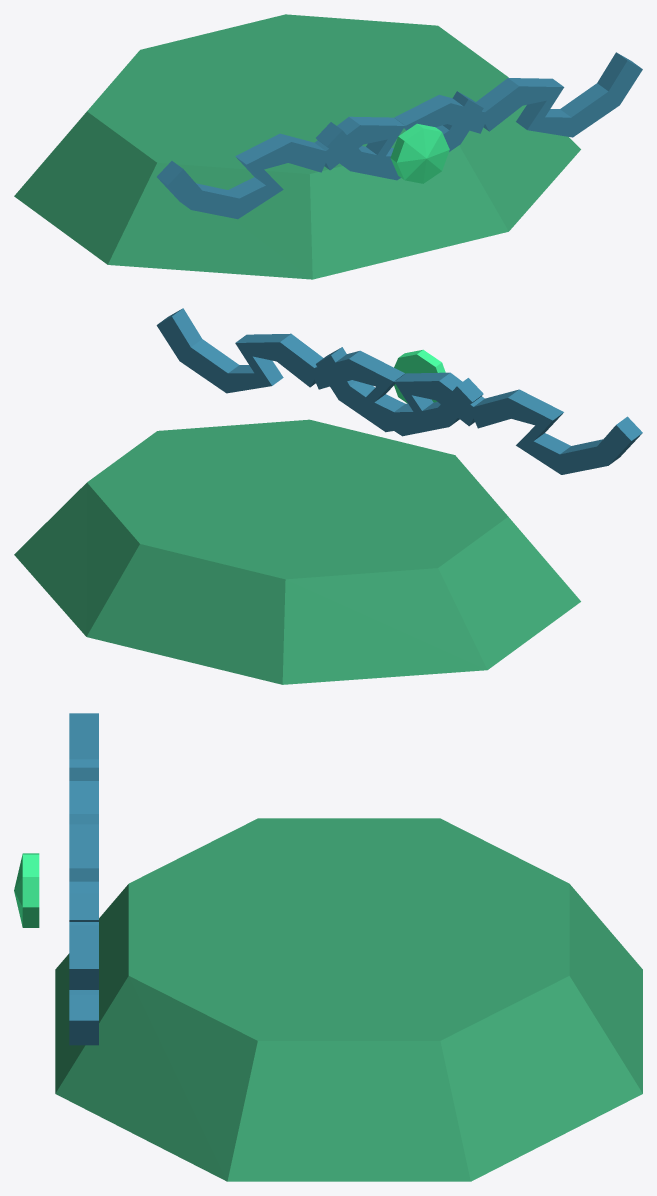
The model's file is floating_cloud_base.obj.
The picture shows the model from 3 angles, top to bottom: view 1: azimuth 30°, elevation 25°; view 2: azimuth 150°, elevation 25°; view 3: azimuth 270°, elevation 25°; orthographic projection. The views are drawn at different scales.
Visible parts, largest first — view 1: floating_cloud_plinth, base_cloud_-1_left, base_cloud_1_right, base_cloud_-1_right, base_cloud_1_right_edge, base_cloud_gem, base_cloud_1_left, base_cloud_-1_left_edge, base_cloud_1_left_edge, base_cloud_-1_right_edge; view 2: floating_cloud_plinth, base_cloud_-1_left, base_cloud_-1_right, base_cloud_1_right, base_cloud_1_left, base_cloud_1_right_edge, base_cloud_-1_left_edge, base_cloud_1_left_edge, base_cloud_-1_right_edge, base_cloud_gem; view 3: floating_cloud_plinth, base_cloud_1_right_edge, base_cloud_-1_left_edge, base_cloud_-1_right_edge, base_cloud_gem, base_cloud_1_left_edge.
Part boxes in pixels (x1=…): floating_cloud_plinth: x1=14, y1=14, x2=580, y2=279; base_cloud_-1_left: x1=168, y1=142, x2=329, y2=219; base_cloud_1_right: x1=481, y1=60, x2=642, y2=137; base_cloud_-1_right: x1=322, y1=99, x2=483, y2=173; base_cloud_1_right_edge: x1=476, y1=52, x2=641, y2=130; base_cloud_gem: x1=390, y1=123, x2=449, y2=183; base_cloud_1_left: x1=327, y1=103, x2=488, y2=180; base_cloud_-1_left_edge: x1=157, y1=133, x2=325, y2=209; base_cloud_1_left_edge: x1=316, y1=94, x2=483, y2=169; base_cloud_-1_right_edge: x1=314, y1=91, x2=482, y2=169; floating_cloud_plinth: x1=14, y1=419, x2=580, y2=684; base_cloud_-1_left: x1=470, y1=398, x2=631, y2=474; base_cloud_-1_right: x1=316, y1=355, x2=477, y2=432; base_cloud_1_right: x1=156, y1=316, x2=315, y2=393; base_cloud_1_left: x1=310, y1=359, x2=472, y2=436; base_cloud_1_right_edge: x1=157, y1=308, x2=323, y2=387; base_cloud_-1_left_edge: x1=474, y1=389, x2=642, y2=464; base_cloud_1_left_edge: x1=315, y1=350, x2=483, y2=425; base_cloud_-1_right_edge: x1=317, y1=347, x2=484, y2=425; base_cloud_gem: x1=394, y1=349, x2=445, y2=403; floating_cloud_plinth: x1=55, y1=818, x2=642, y2=1181; base_cloud_1_right_edge: x1=69, y1=925, x2=98, y2=1045; base_cloud_-1_left_edge: x1=69, y1=713, x2=98, y2=813; base_cloud_-1_right_edge: x1=69, y1=824, x2=98, y2=921; base_cloud_gem: x1=14, y1=853, x2=39, y2=927; base_cloud_1_left_edge: x1=69, y1=814, x2=98, y2=925.
Size of the model in its own units: 1.07 by 0.2976 by 0.9493.
